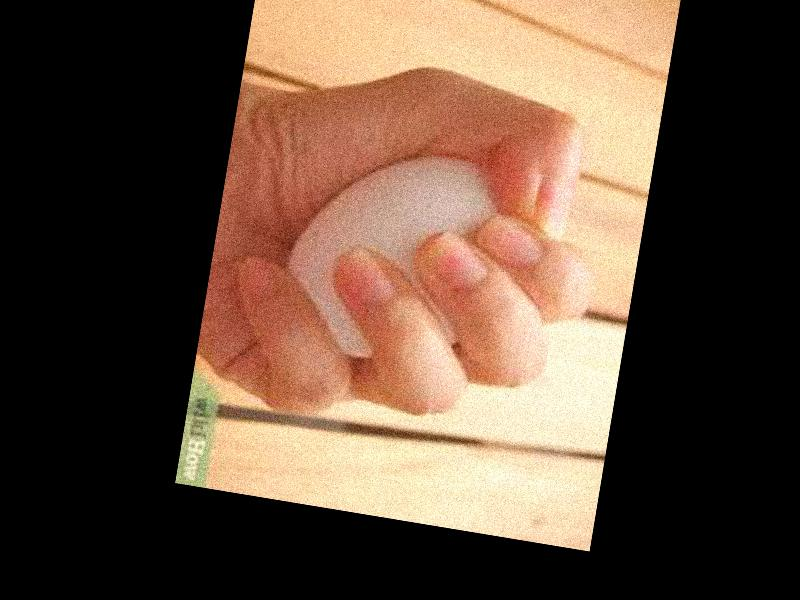Eggs: (274, 132, 504, 377)
